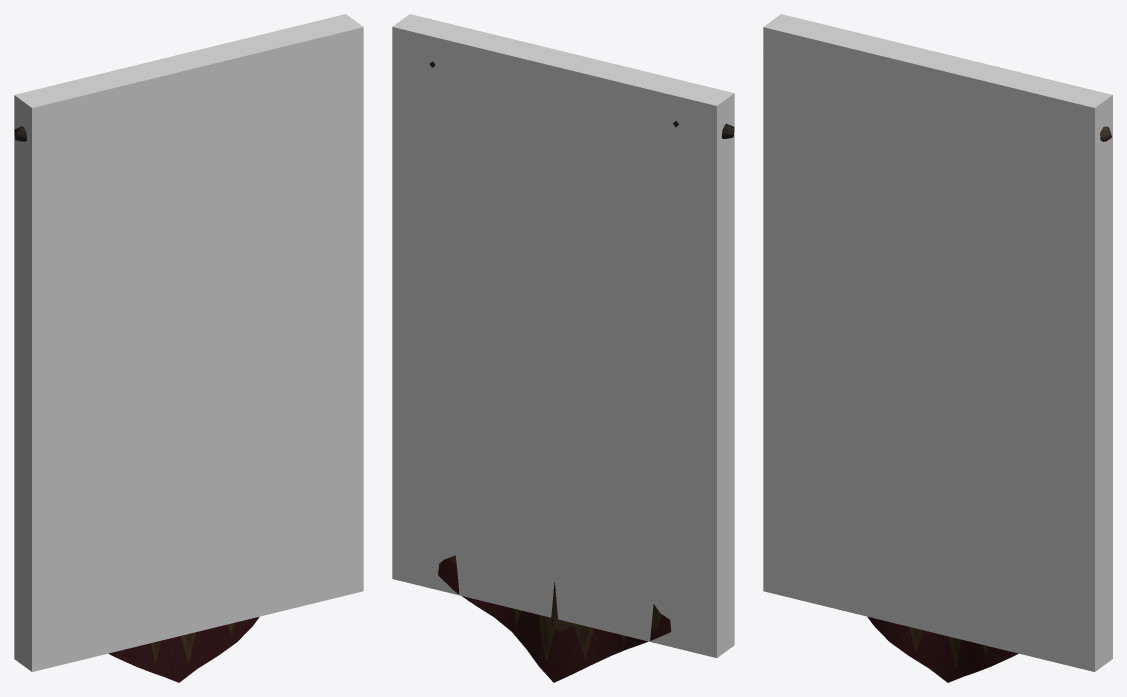
File: tapestry_heraldic_v1.glb
The picture shows the model from 3 angles, left to right: view 1: azimuth 30°, elevation 25°; view 2: azimuth 150°, elevation 25°; view 3: azimuth 330°, elevation 25°; orthographic projection. The views are drawn at different scales.
Visible parts, largest first — view 1: col_tapestry, tapestry; view 2: col_tapestry, tapestry; view 3: col_tapestry, tapestry.
Boxes of the visible parts, x1,y1,x2,y2 form: col_tapestry: (14, 14, 363, 671); tapestry: (14, 126, 259, 682); col_tapestry: (392, 14, 734, 657); tapestry: (429, 61, 734, 682); col_tapestry: (763, 14, 1112, 671); tapestry: (867, 126, 1111, 682).
Bounding box in the file's own units: 1.67 × 2.9 × 0.1575.
Materials: 2 (2 with a texture image).
